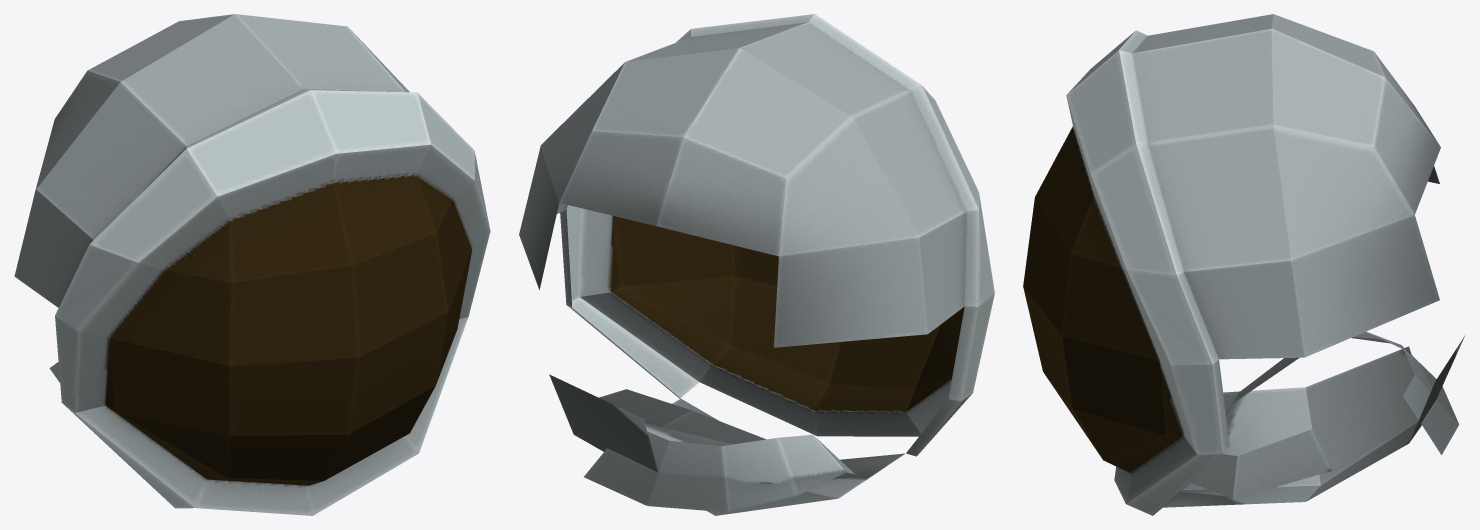
File: VoidHead.glb
3 views of the same model, side by side, from view 1: azimuth 30°, elevation 25°; view 2: azimuth 150°, elevation 25°; view 3: azimuth 270°, elevation 25° (orthographic).
Visible parts, largest first — view 1: Astronaut; view 2: Astronaut; view 3: Astronaut.
Part boxes in pixels (bbox=[...]): Astronaut: bbox=[14, 14, 490, 515]; Astronaut: bbox=[519, 14, 994, 515]; Astronaut: bbox=[1023, 14, 1465, 515].
Size of the model in its own units: 0.8968 by 0.9325 by 0.8096.
1 material, 1 textured.
